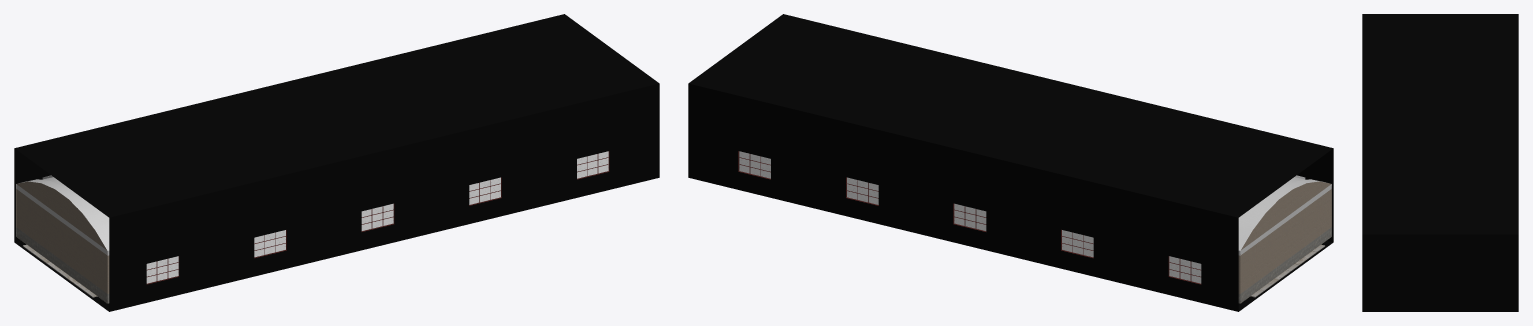
Rendered from exh_wall.fbx.
3 views of the same model, side by side, from view 1: azimuth 30°, elevation 25°; view 2: azimuth 150°, elevation 25°; view 3: azimuth 270°, elevation 25° (orthographic). The views are drawn at different scales.
Visible parts, largest first — view 1: Material2.003, Material2.009, Material2.007, Material2.004, Material2, Material2.011, Material2.012; view 2: Material2.003, Material2.009, Material2.007, Material2.004, Material2, Material2.011, Material2.012; view 3: Material2.003.
Boxes of the visible parts, <box> form: Material2.003: <box>14,14,659,311</box>; Material2.009: <box>16,181,107,293</box>; Material2.007: <box>146,151,608,283</box>; Material2.004: <box>16,175,109,255</box>; Material2: <box>146,151,609,284</box>; Material2.011: <box>16,227,107,303</box>; Material2.012: <box>16,184,107,255</box>; Material2.003: <box>688,14,1333,311</box>; Material2.009: <box>1240,181,1331,293</box>; Material2.007: <box>739,151,1201,283</box>; Material2.004: <box>1238,175,1331,255</box>; Material2: <box>738,151,1201,284</box>; Material2.011: <box>1240,227,1331,303</box>; Material2.012: <box>1240,184,1331,255</box>; Material2.003: <box>1362,14,1518,311</box>.
Bounding box in the file's own units: 145059 × 23556 × 43044.
9 materials, 7 textured.
